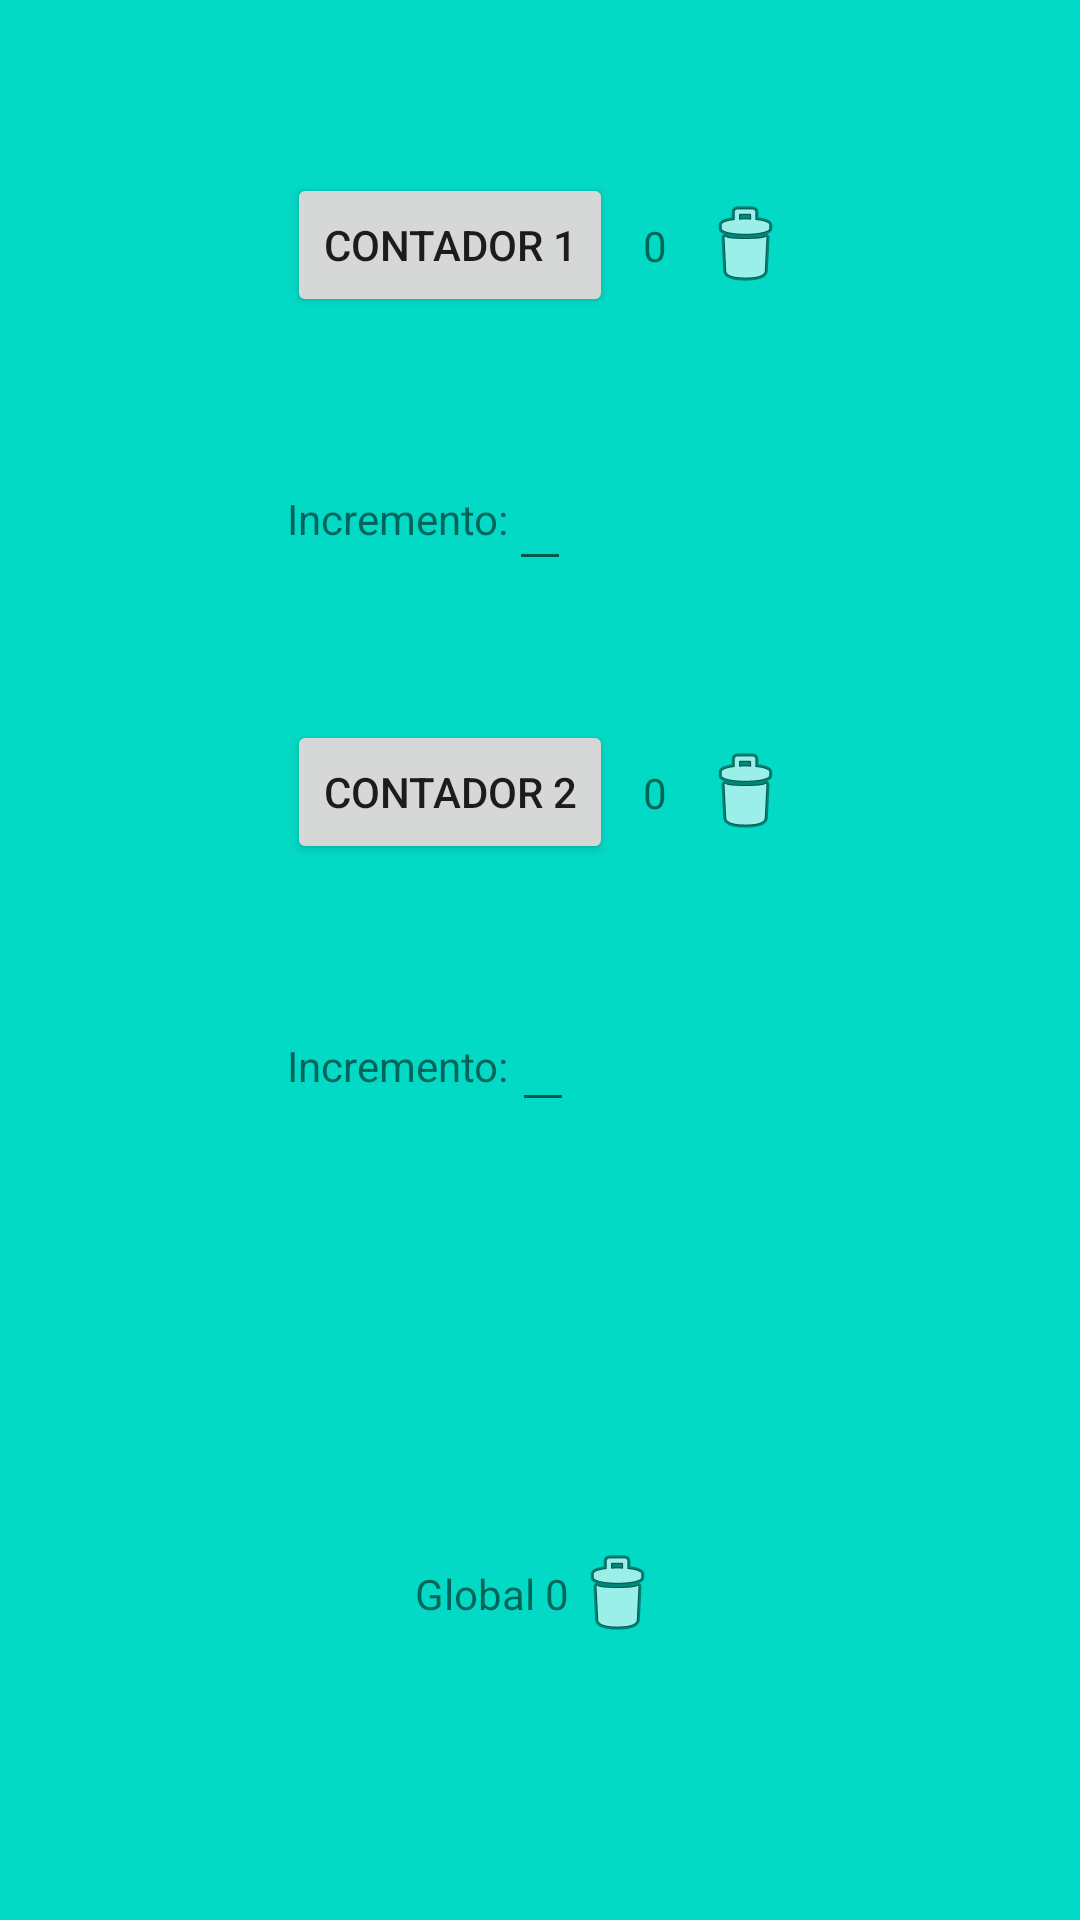

Icon click points for this 1080*1920 phone screenshot, format [x,y]:
delete: [745,243], [745,790], [617,1592]
